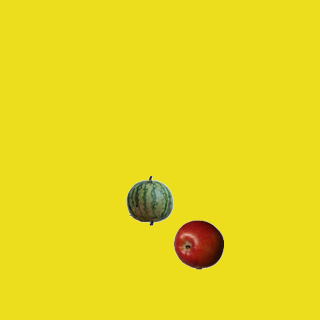Apple Braeburn: (173, 219, 223, 269)
Watermelon: (124, 175, 174, 225)
